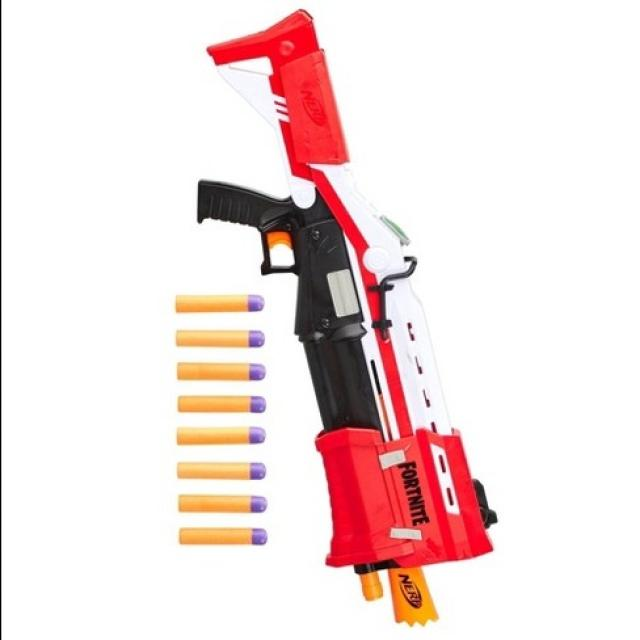Nerf gun: (191, 7, 504, 628)
